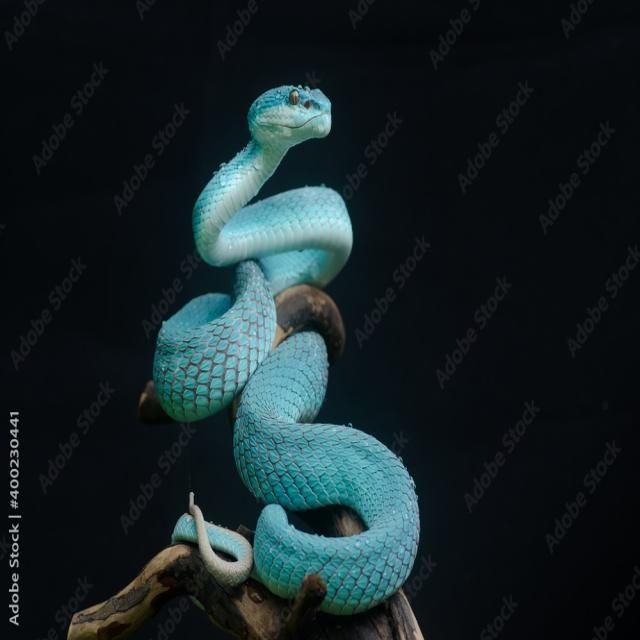Snake: (149, 48, 428, 629)
